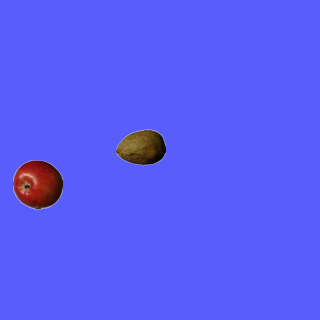Apple Braeburn: (12, 159, 62, 209)
Papaya: (115, 122, 165, 172)
